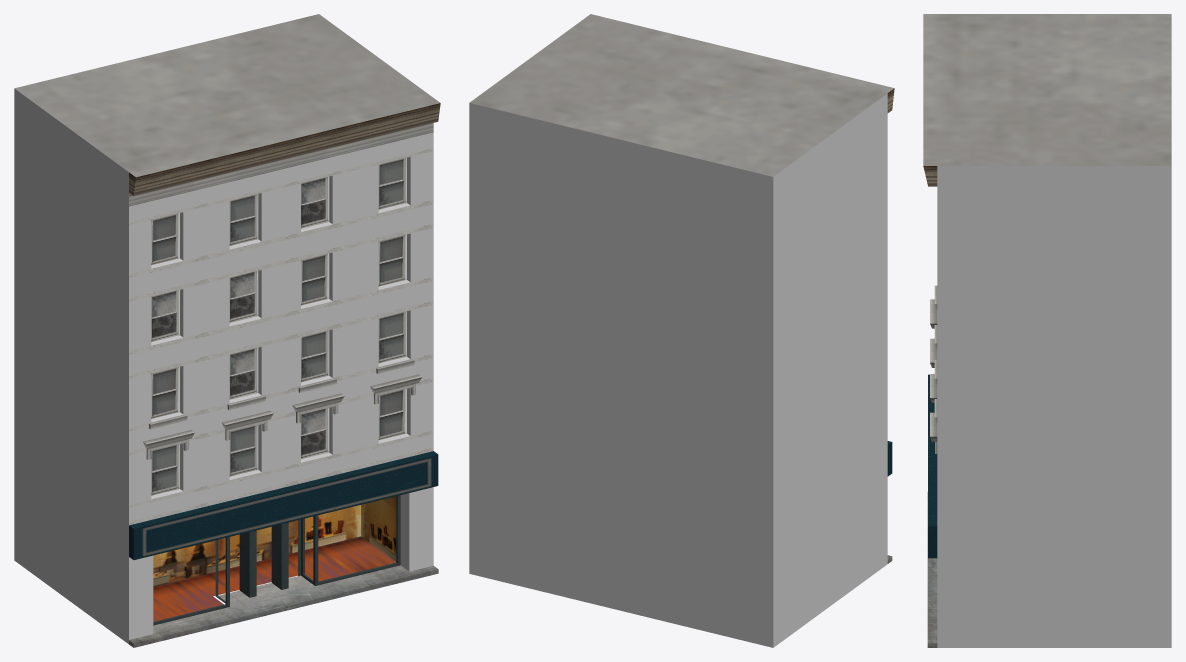
The model's file is Building_D.fbx.
The picture shows the model from 3 angles, left to right: view 1: azimuth 30°, elevation 25°; view 2: azimuth 150°, elevation 25°; view 3: azimuth 270°, elevation 25°; orthographic projection. The views are drawn at different scales.
Parts seen in each view (by area): view 1: City_Market_01:Building D003; view 2: City_Market_01:Building D003; view 3: City_Market_01:Building D003.
Boxes of the visible parts, x1=… form: City_Market_01:Building D003: x1=14, y1=14, x2=440, y2=647; City_Market_01:Building D003: x1=469, y1=14, x2=894, y2=647; City_Market_01:Building D003: x1=923, y1=14, x2=1171, y2=647.
Size of the model in its own units: 9.35 by 13.85 by 6.47.
